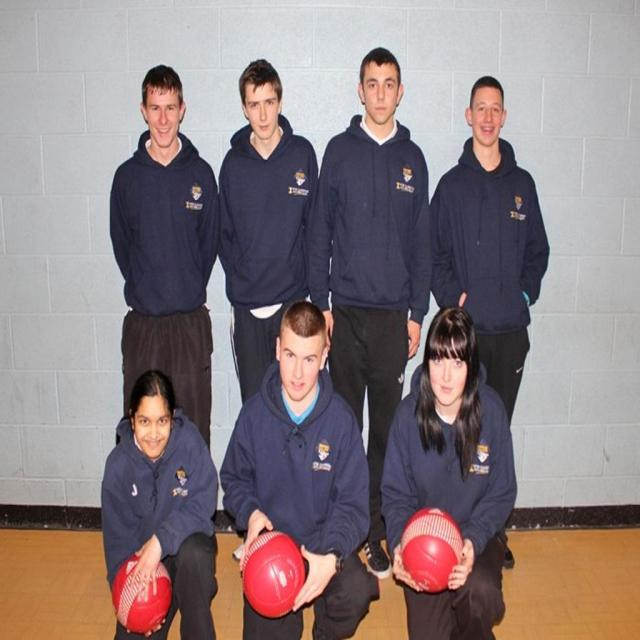Face: (271, 318, 326, 417), (132, 74, 186, 163), (463, 67, 517, 156), (233, 63, 292, 143), (429, 320, 479, 402), (364, 46, 411, 133), (137, 386, 179, 458)
